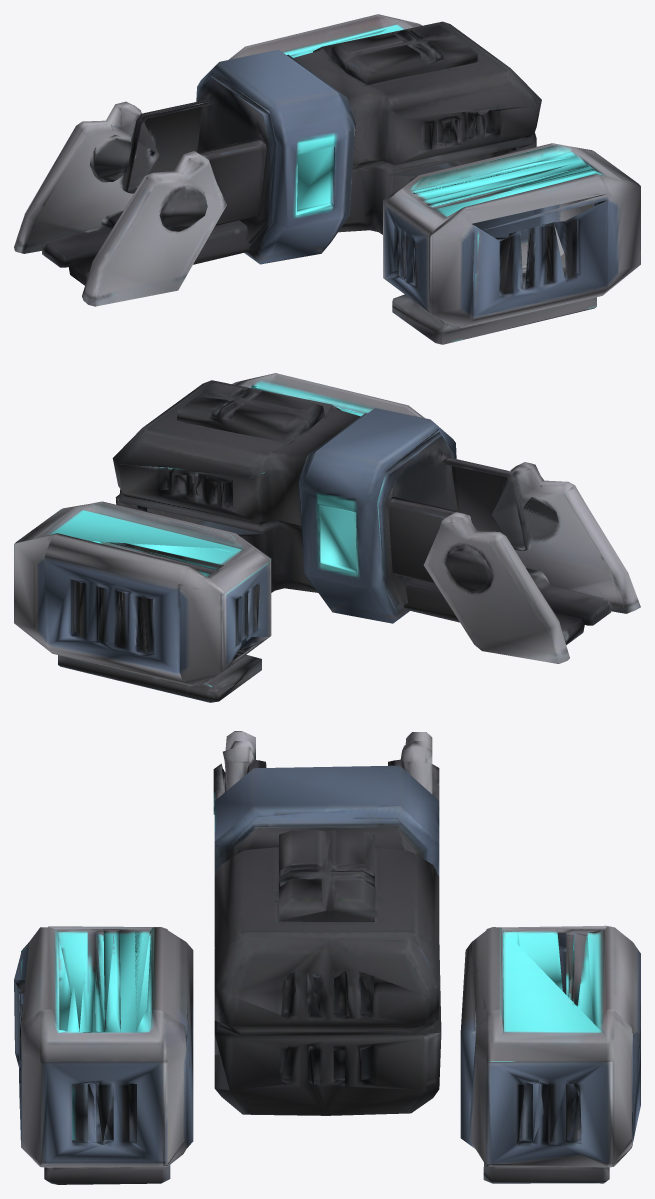
File: turret.glb
3 views of the same model, one above another, from view 1: azimuth 30°, elevation 25°; view 2: azimuth 150°, elevation 25°; view 3: azimuth 270°, elevation 25° (orthographic). The views are drawn at different scales.
Parts seen in each view (by area): view 1: Turret_Pivot_Centered; view 2: Turret_Pivot_Centered; view 3: Turret_Pivot_Centered.
Boxes of the visible parts, left/top/right/bottom form: Turret_Pivot_Centered: left=14, top=14, right=640, bottom=344; Turret_Pivot_Centered: left=14, top=373, right=640, bottom=702; Turret_Pivot_Centered: left=14, top=731, right=640, bottom=1184.
Size of the model in its own units: 0.3472 by 0.144 by 0.3037.
1 material, 1 textured.
